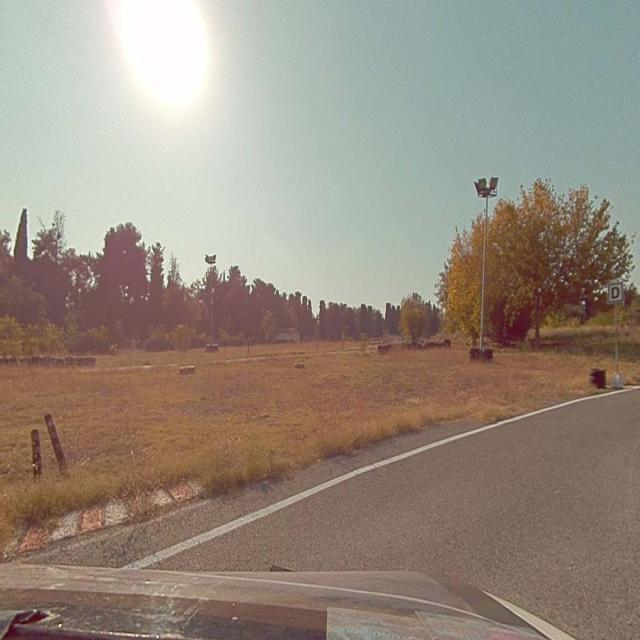durak: (608, 284, 623, 303)
